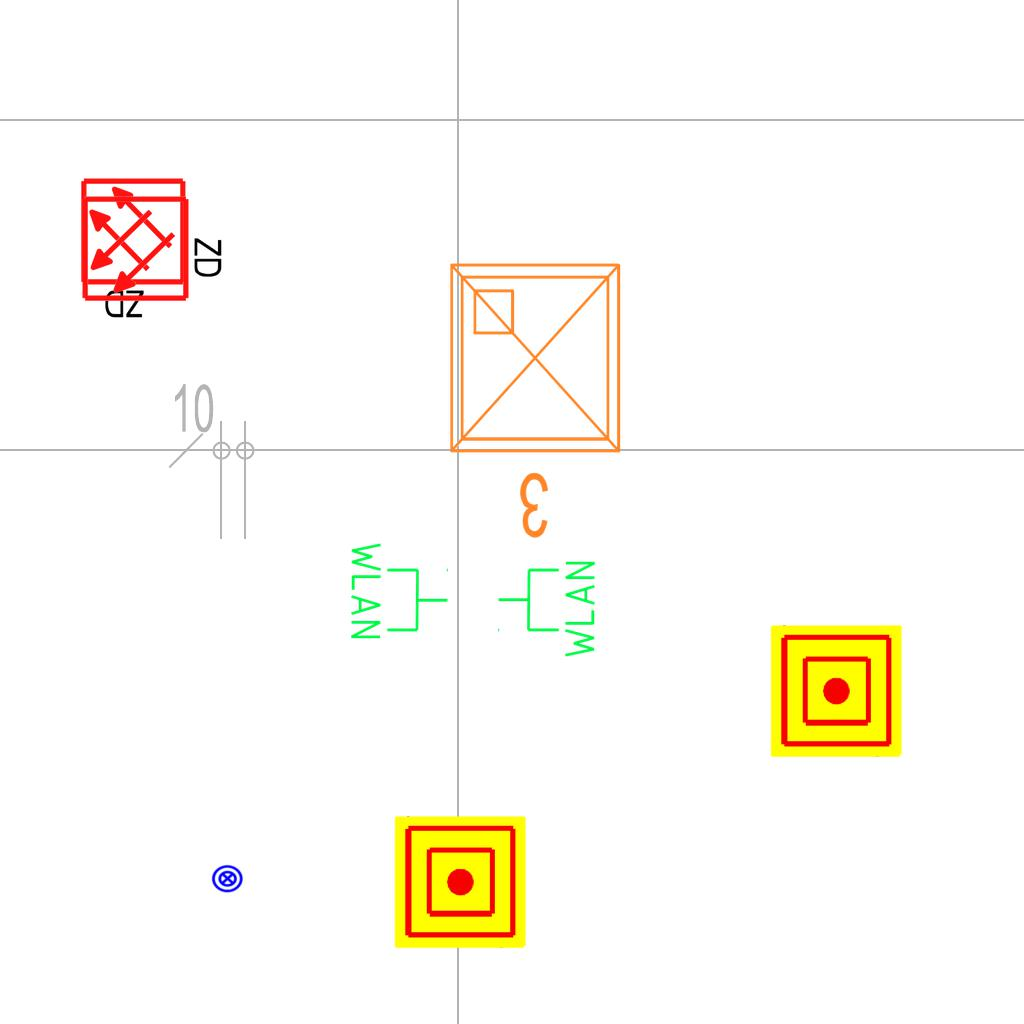Einbaudownlights_LED_Konferenzraeume: (435, 249, 643, 549)
NAM-Nichtautomatischer_Melder: (394, 816, 526, 948), (770, 625, 902, 757)
Taster_beleuchtet: (211, 862, 244, 895)
WLAN: (347, 538, 451, 643), (495, 557, 599, 662)
ZD_Melder_in_Zwischendecke_mit_Revisionsoeffnung_mind_40_x_40_cm: (78, 176, 192, 325), (80, 190, 229, 304)
